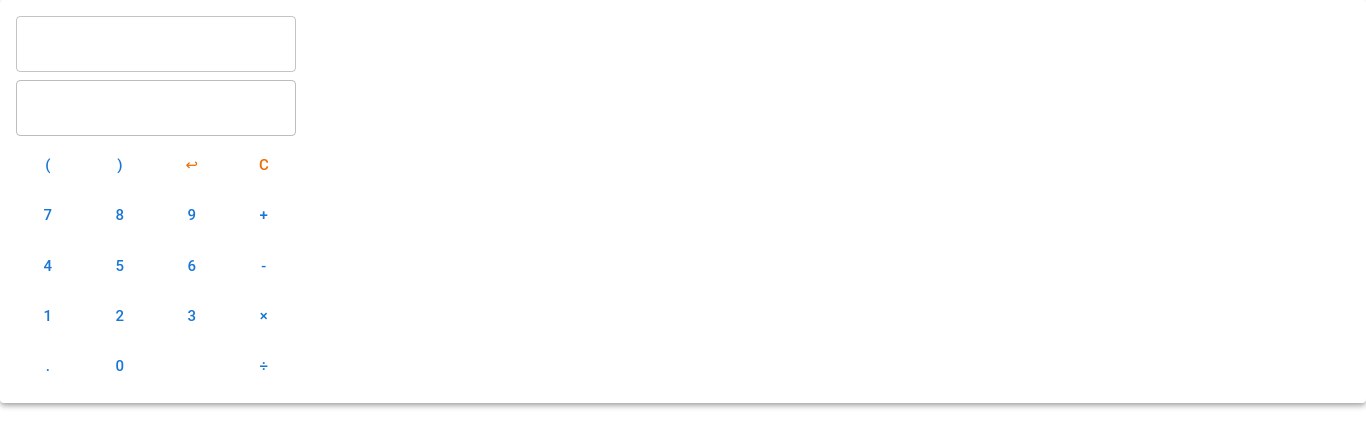
Test case: Calculator › adds input to inputs on button click
What coordinates should you click on to do the following:
click the button "5"
I would click on:
 (120, 266)
Its box is 88,244 -> 152,287.
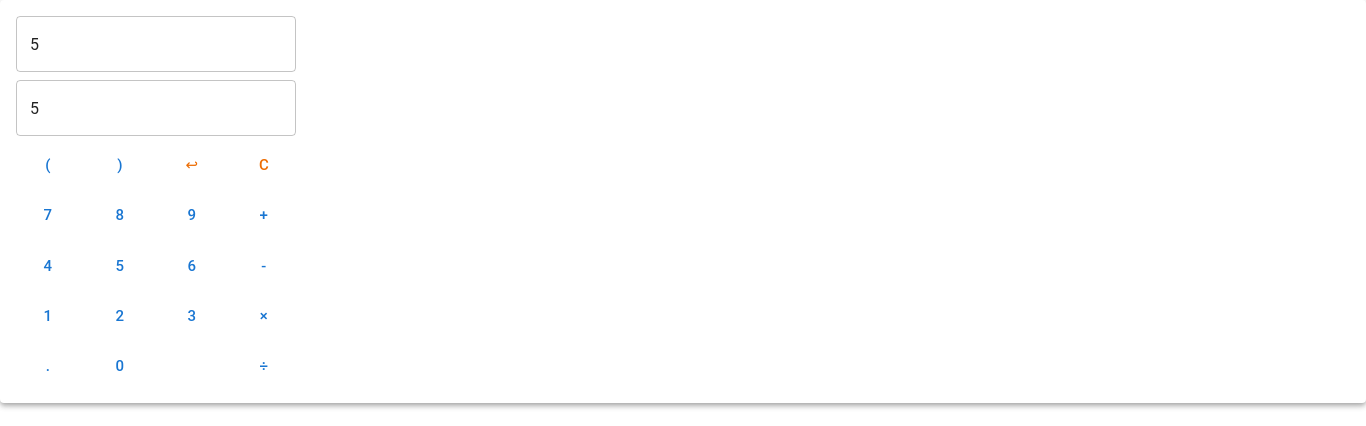
Result: the field with test id "inputs" holds "5" at 16,16 -> 296,72
What coordinates should you click on to do the following:
click the button "+"
I would click on:
 (264, 215)
Its box is 232,194 -> 296,237.
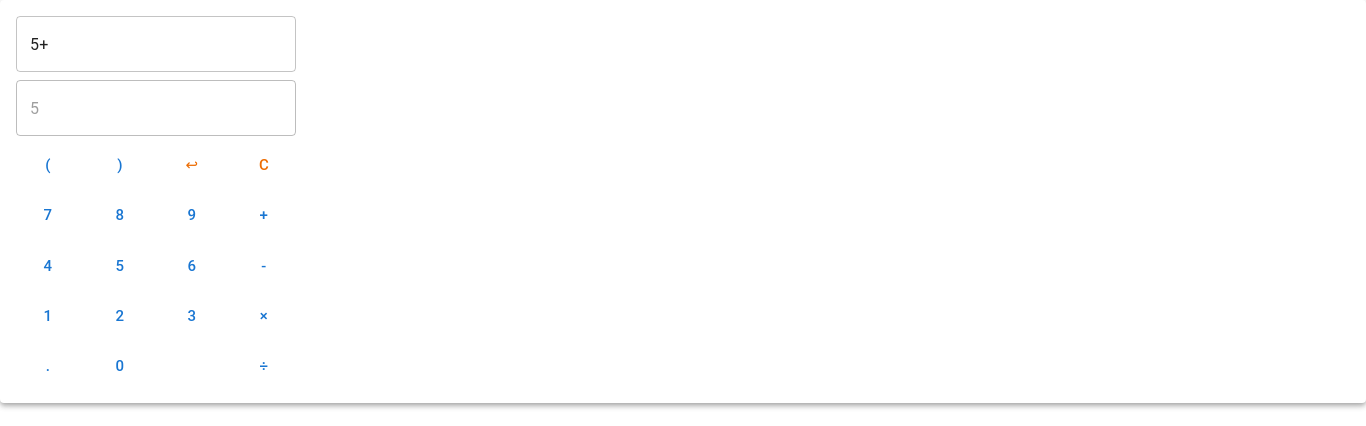
Result: the field with test id "inputs" holds "5+" at 16,16 -> 296,72
What coordinates should you click on to do the following:
click the button "7"
I would click on:
 (48, 215)
Its box is 16,194 -> 80,237.
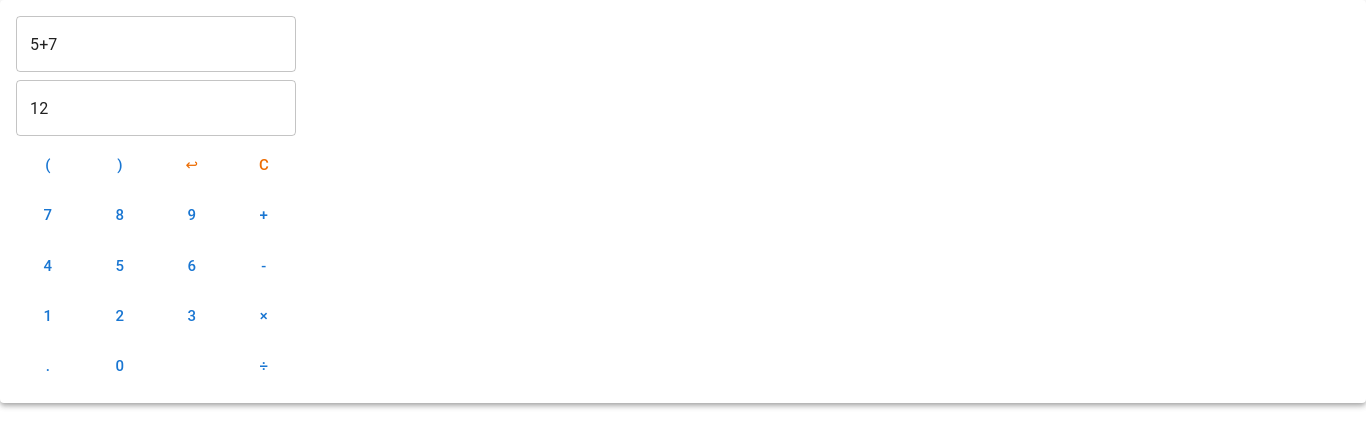
Result: the field with test id "inputs" holds "5+7" at 16,16 -> 296,72
